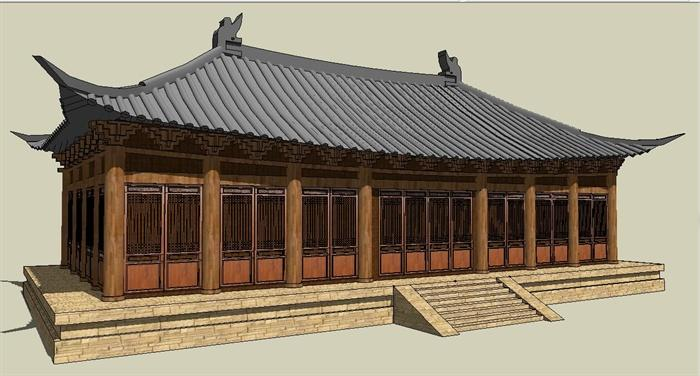buildings: (0, 71, 494, 303), (226, 65, 692, 296)
